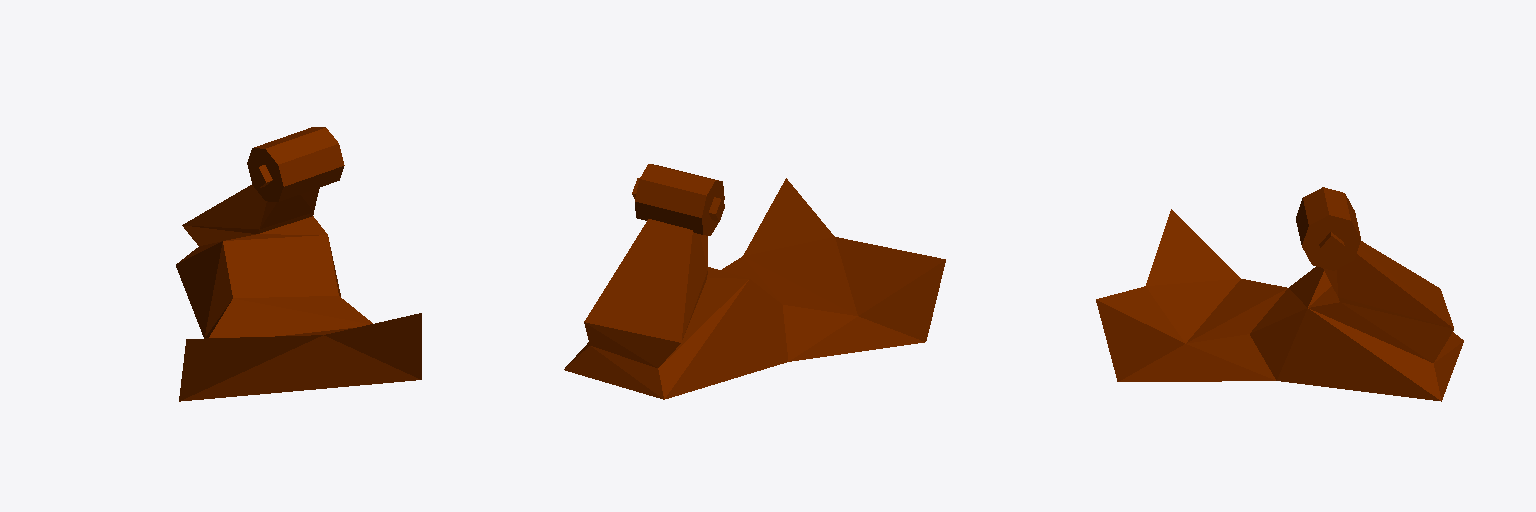
Rendered from leg_r.obj.
3 renders of one model, left to right at view 1: azimuth 30°, elevation 25°; view 2: azimuth 150°, elevation 25°; view 3: azimuth 270°, elevation 25°, orthographic.
Visible parts, largest first — view 1: legs:transformblitzcrank_transformblitzcrank; view 2: legs:transformblitzcrank_transformblitzcrank; view 3: legs:transformblitzcrank_transformblitzcrank.
Part boxes in pixels (bbox=[...]): legs:transformblitzcrank_transformblitzcrank: bbox=[176, 127, 421, 401]; legs:transformblitzcrank_transformblitzcrank: bbox=[564, 164, 945, 399]; legs:transformblitzcrank_transformblitzcrank: bbox=[1096, 187, 1463, 401].
Bounding box in the file's own units: 4.27 × 2.87 × 5.5.